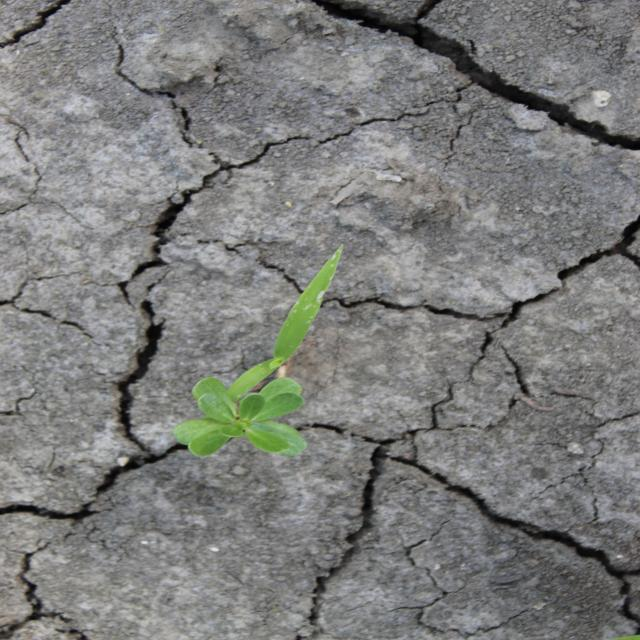Purslane: (171, 376, 310, 458)
